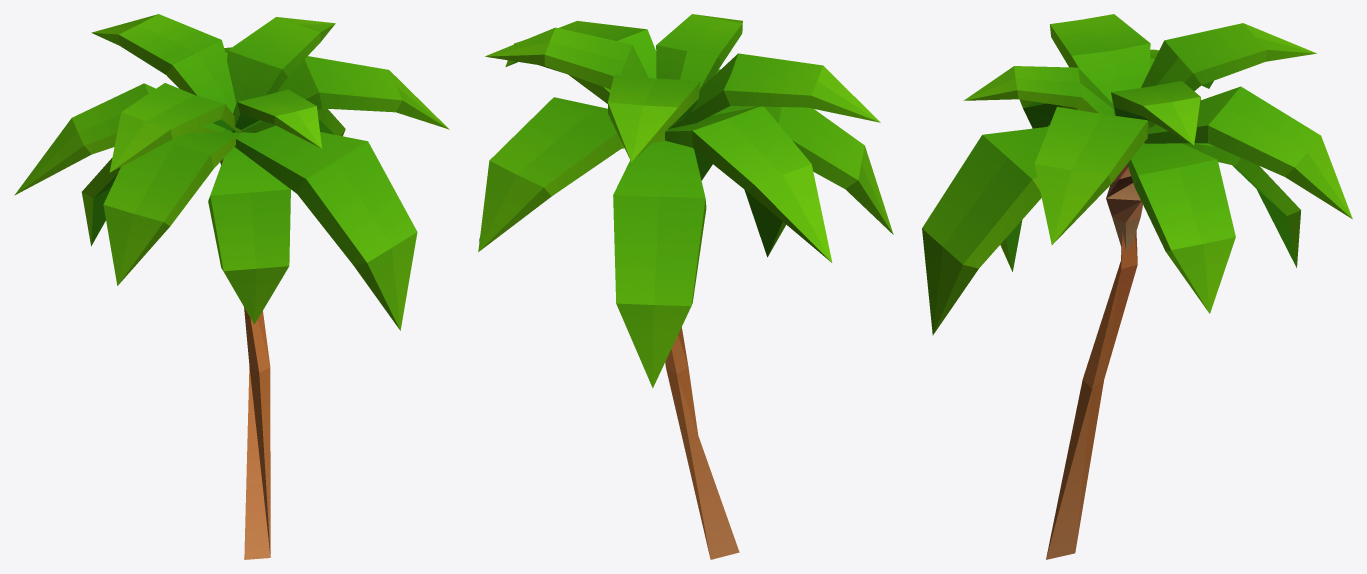
File: GL-Palmtree-01-LOD2.fbx
The picture shows the model from 3 angles, left to right: view 1: azimuth 30°, elevation 25°; view 2: azimuth 150°, elevation 25°; view 3: azimuth 270°, elevation 25°; orthographic projection. The views are drawn at different scales.
Visible parts, largest first — view 1: GL_Palmtree_01; view 2: GL_Palmtree_01; view 3: GL_Palmtree_01.
Part boxes in pixels (x1,y1,x2,y2): GL_Palmtree_01: (14, 14, 449, 559); GL_Palmtree_01: (478, 14, 893, 559); GL_Palmtree_01: (922, 14, 1352, 559).
Size of the model in its own units: 3.72 by 4.62 by 3.57.
